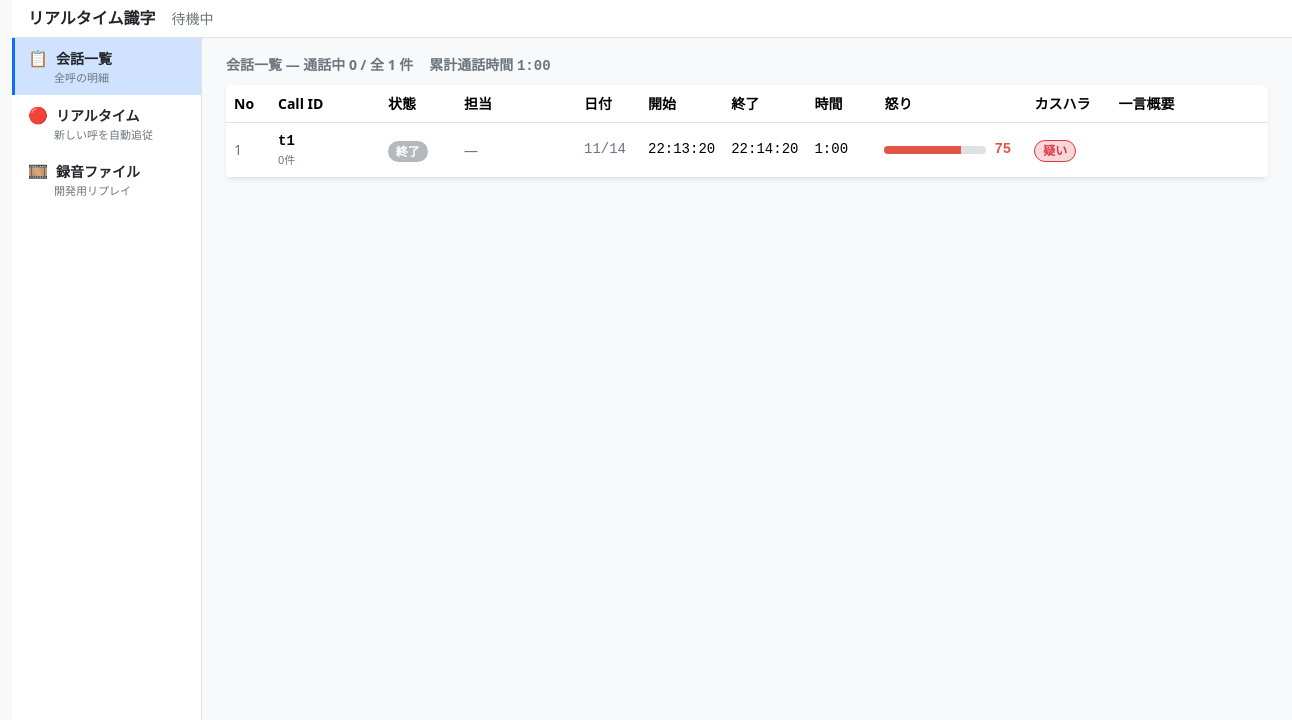
Test: 保存済みの呼を開く › 色分け・状況パネル・声の食い違い・通話カードが出る
Step 1. Click the button with test id "call-t1" → x=747, y=150, box [226,122,1268,177]
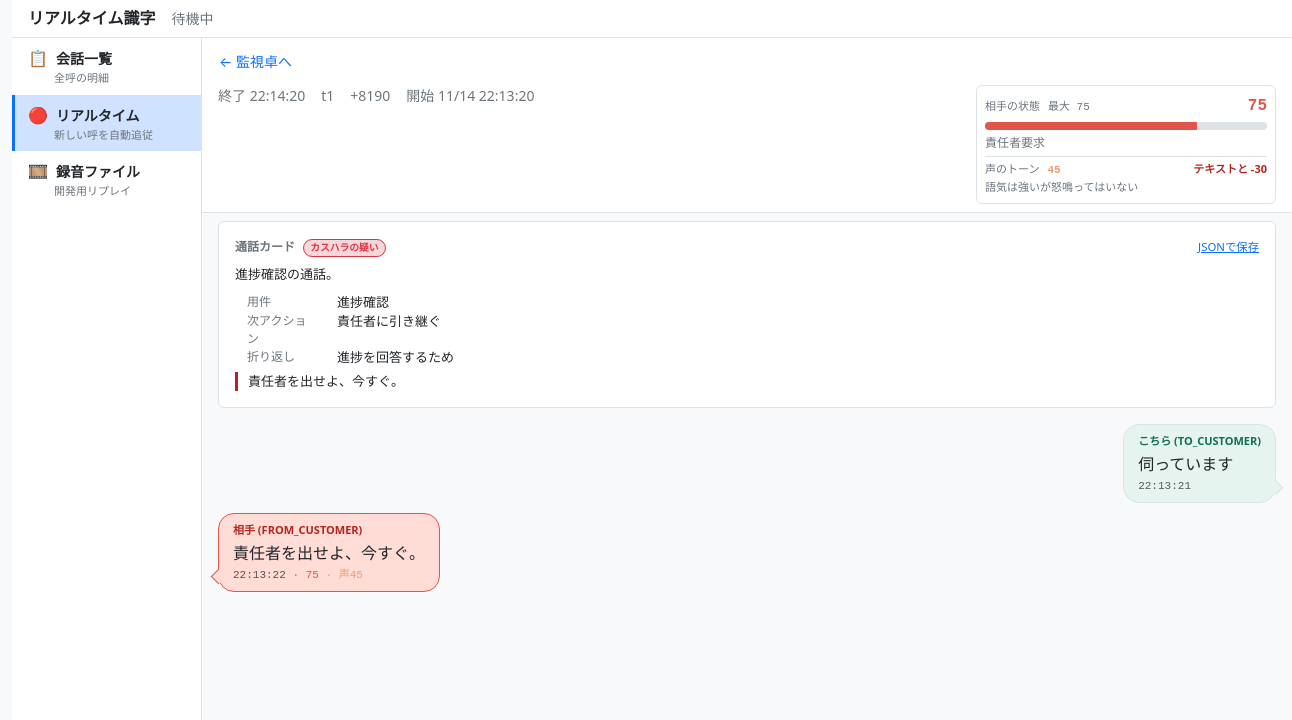
Expected: the text "責任者を出せよ、今すぐ。" shows "75", [306,569,319,581]
Expected: the text with test id "sit-score" reads "75", [1248,97,1267,115]
Expected: the text with test id "sit-max" reads "最大 75", [1048,101,1090,113]
